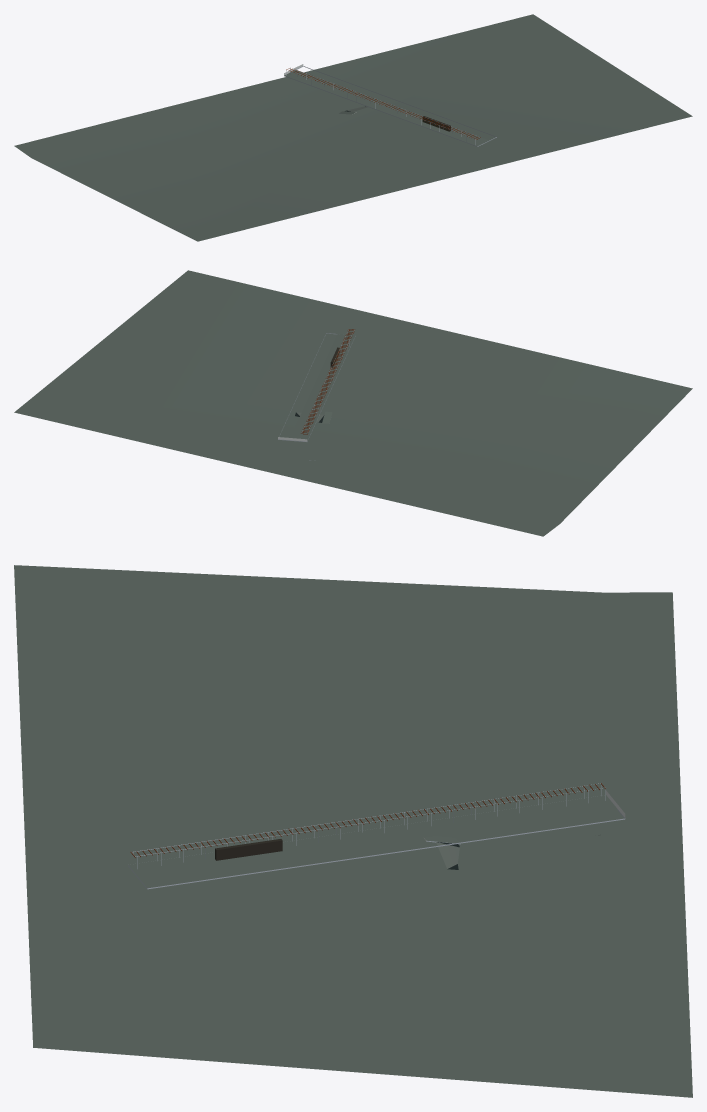
File: chattanooga-pier.glb
3 renders of one model, top to bottom at view 1: azimuth 30°, elevation 25°; view 2: azimuth 150°, elevation 25°; view 3: azimuth 270°, elevation 25°, orthographic. The views are drawn at different scales.
Parts seen in each view (by area): view 1: LOD0; view 2: LOD0; view 3: LOD0.
Boxes of the visible parts, bbox=[...] form: LOD0: bbox=[14, 14, 692, 241]; LOD0: bbox=[14, 270, 692, 536]; LOD0: bbox=[14, 565, 692, 1097].
Size of what is drawn, in the model's own units: 248 by 12.42 by 141.
3 materials, 3 textured.
